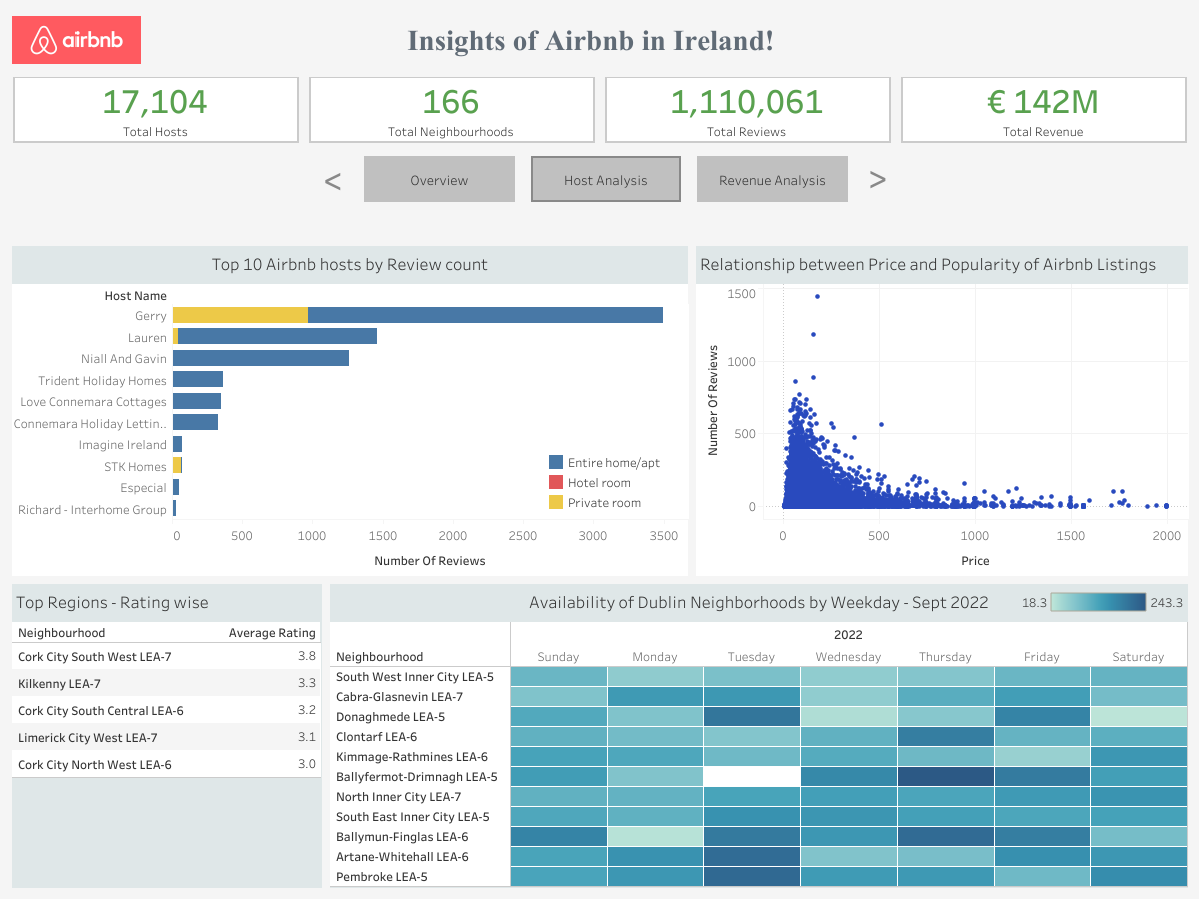

The page's visual inventory and layout, read from the dashboard file:
{"tool":"tableau","page":{"name":"Airbnb - Host","canvas":[1200,900],"ordinal":0},"visuals":[{"type":"image","param":"Image/airbnb_logo_detail.jpeg","box":[8,8,137,64]},{"type":"text","box":[145,8,892,64]},{"type":"worksheet","title":"Total Hosts","mark":"Automatic","box":[8,72,296,76]},{"type":"worksheet","title":"Total Neighbourhoods","mark":"Automatic","box":[304,72,296,76]},{"type":"worksheet","title":"Total Reviews","mark":"Automatic","box":[600,72,296,76]},{"type":"worksheet","title":"Total Revenue","mark":"Automatic","box":[896,72,296,76]},{"type":"blank","box":[8,148,292,62]},{"type":"blank","box":[300,148,56,62]},{"type":"dashboard-object","box":[356,148,167,62]},{"type":"dashboard-object","box":[523,148,166,62]},{"type":"dashboard-object","box":[689,148,167,62]},{"type":"blank","box":[856,148,40,62]},{"type":"blank","box":[896,148,296,62]},{"type":"dashboard-object","box":[856,155,43,45]},{"type":"dashboard-object","box":[312,157,43,45]},{"type":"worksheet","title":"Top 10 Airbnb hosts","mark":"Automatic","rows":["host_name"],"cols":["number_of_reviews"],"box":[8,242,684,338]},{"type":"worksheet","title":"Relationship between Price and Popularity of Airbnb Listings","mark":"Automatic","rows":["number_of_reviews"],"cols":["price"],"box":[692,242,500,338]},{"type":"legend","title":"Top 10 Airbnb hosts","param":"[federated.0d6vh2y0uswwkz17mnpo40ihjz82].[none:room_type:nk]","box":[546,452,140,78]},{"type":"worksheet","title":"Top Regions - Rating wise ","mark":"Automatic","rows":["neighbourhood"],"box":[8,580,318,312]},{"type":"worksheet","title":"Availability of Dublin Neighborhoods by Weekday - Sept 2022","mark":"Square","rows":["neighbourhood"],"cols":["last_review","last_review"],"box":[326,580,865.9,312]},{"type":"legend","title":"Availability of Dublin Neighborhoods by Weekday - Sept 2022","param":"[federated.0d6vh2y0uswwkz17mnpo40ihjz82].[avg:availability_365:qk]","box":[1018,589,170,41]}]}

Visuals, with their boxes in screenshot pixels (x1, y1, x2, y2), scaled from the page's 1200x900 canvas onto the 1199x899 screenshot:
image: [8, 8, 145, 72]
text: [145, 8, 1036, 72]
"Total Hosts" worksheet: [8, 72, 304, 148]
"Total Neighbourhoods" worksheet: [304, 72, 600, 148]
"Total Reviews" worksheet: [600, 72, 895, 148]
"Total Revenue" worksheet: [895, 72, 1191, 148]
blank: [8, 148, 300, 210]
blank: [300, 148, 356, 210]
dashboard-object: [356, 148, 523, 210]
dashboard-object: [523, 148, 688, 210]
dashboard-object: [688, 148, 855, 210]
blank: [855, 148, 895, 210]
blank: [895, 148, 1191, 210]
dashboard-object: [855, 155, 898, 200]
dashboard-object: [312, 157, 355, 202]
"Top 10 Airbnb hosts" worksheet: [8, 242, 691, 579]
"Relationship between Price and Popularity of Airbnb Listings" worksheet: [691, 242, 1191, 579]
"Top 10 Airbnb hosts" legend: [546, 451, 685, 529]
"Top Regions - Rating wise " worksheet: [8, 579, 326, 891]
"Availability of Dublin Neighborhoods by Weekday - Sept 2022" worksheet (Square marks): [326, 579, 1191, 891]
"Availability of Dublin Neighborhoods by Weekday - Sept 2022" legend: [1017, 588, 1187, 629]
